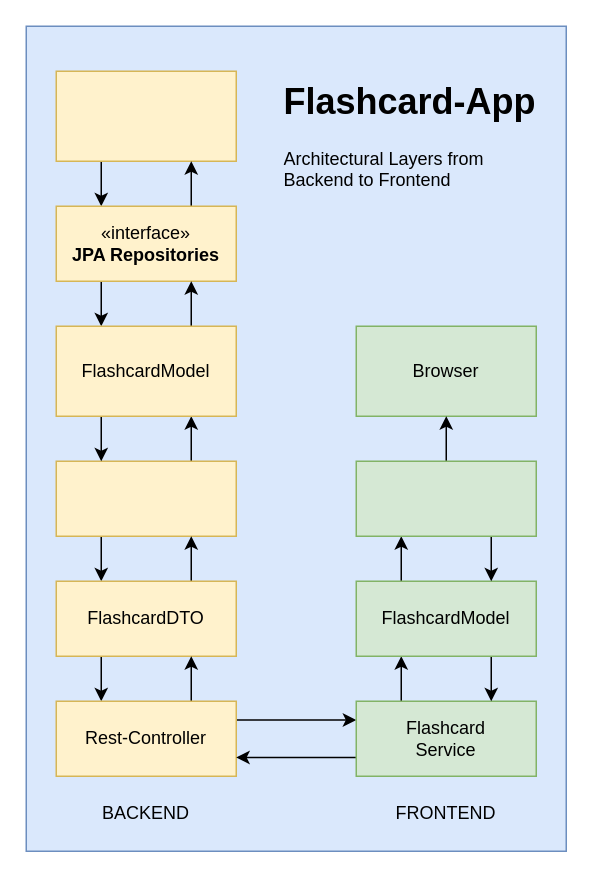
This 593x878 diagram has some shape labels left out. The centre of each missing label's shape, as x and y in pixels:
"Angular Components" belongs at (445,498).
"PostgreSQL DB" belongs at (145,115).
"«interface» Flashcards Service" belongs at (145,498).
